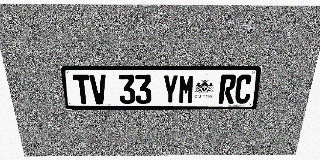3: (118, 75, 135, 104), (135, 75, 151, 104)
C: (234, 75, 253, 104)
M: (178, 75, 195, 104)
R: (218, 75, 237, 104)
T: (72, 75, 92, 104)
V: (89, 75, 108, 104)
Y: (162, 75, 178, 104)
